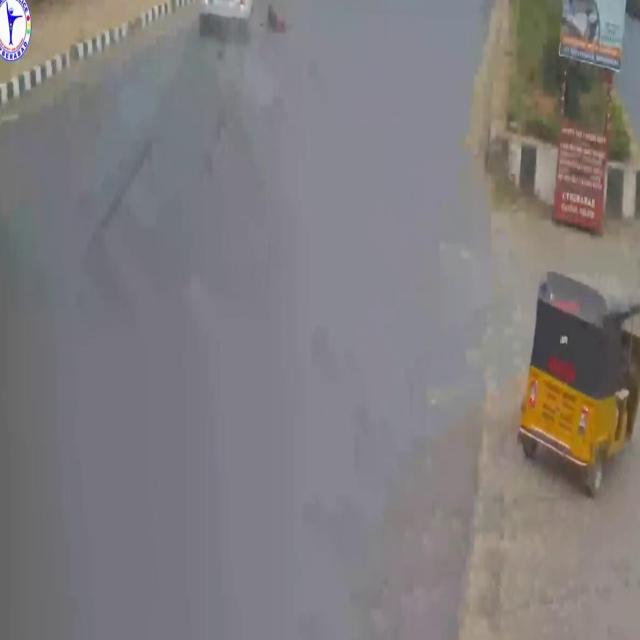accident: (192, 0, 296, 68)
